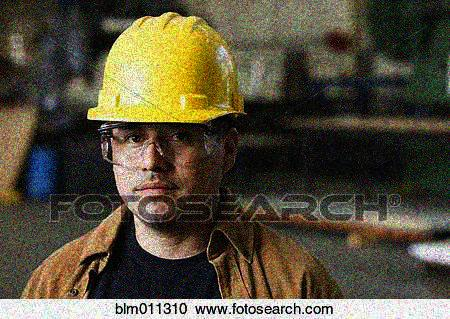helmet: (85, 9, 250, 224)
